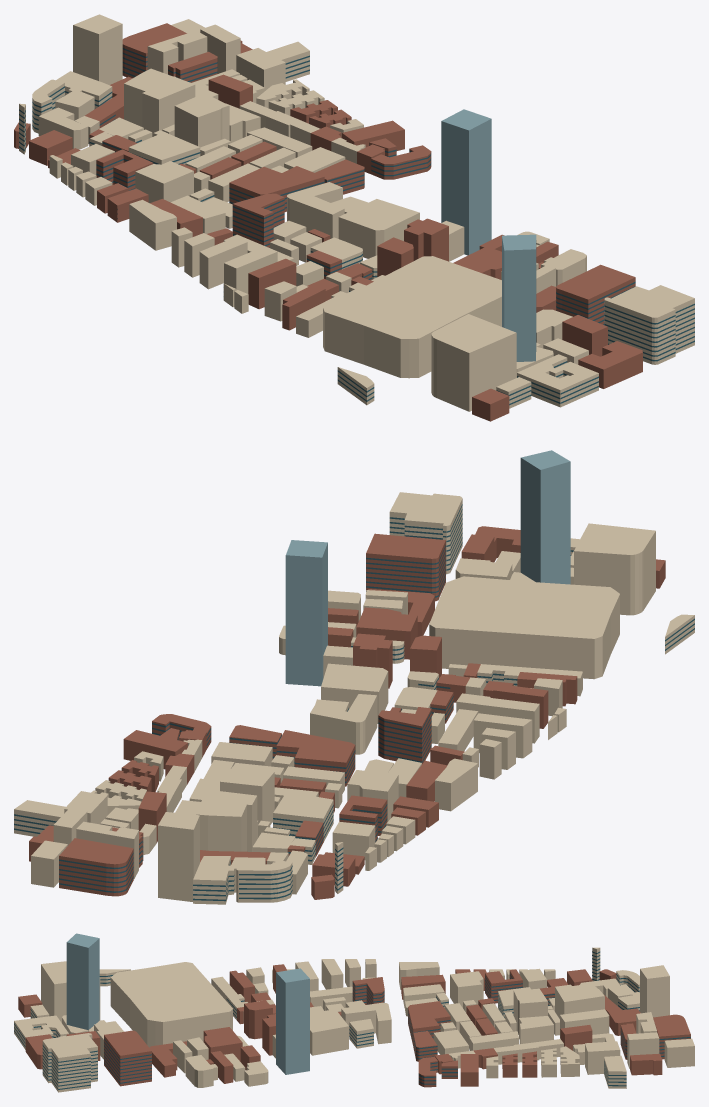
3 views of the same model, one above another, from view 1: azimuth 30°, elevation 25°; view 2: azimuth 150°, elevation 25°; view 3: azimuth 270°, elevation 25° (orthographic). The views are drawn at different scales.
Visible parts, largest first — view 1: osm-way-378107236, osm-way-380340014, osm-way-378107150, osm-way-320908499, osm-way-378107140, osm-way-446937295, osm-way-446937013, osm-relation-16213630, osm-way-1156620261, osm-way-446937271, osm-way-446934938, osm-way-495117576 (+51 smaller); view 2: osm-way-378107236, osm-way-378107140, osm-way-380340014, osm-way-378107150, osm-way-1156620261, osm-way-293504499, osm-way-320908499, osm-way-446937013, osm-way-446937295, osm-way-380340021, osm-way-446934938, osm-way-495117576 (+40 smaller); view 3: osm-way-378107236, osm-way-380340014, osm-way-378107140, osm-way-320908499, osm-way-1156620261, osm-relation-16213630, osm-way-378107150, osm-way-446937013, osm-way-446937295, osm-way-446934938, osm-way-495117576, osm-way-446936792 (+70 smaller).
Boxes of the visible parts, left/top/right/bottom form: osm-way-378107236: left=323, top=256, right=501, bottom=378; osm-way-380340014: left=441, top=109, right=491, bottom=255; osm-way-378107150: left=431, top=314, right=516, bottom=411; osm-way-320908499: left=604, top=285, right=694, bottom=364; osm-way-378107140: left=502, top=234, right=536, bottom=361; osm-way-446937295: left=124, top=68, right=195, bottom=136; osm-way-446937013: left=73, top=14, right=122, bottom=84; osm-relation-16213630: left=338, top=199, right=419, bottom=258; osm-way-1156620261: left=556, top=264, right=635, bottom=325; osm-way-446937271: left=174, top=93, right=229, bottom=147; osm-way-446934938: left=287, top=182, right=344, bottom=238; osm-way-495117576: left=229, top=166, right=324, bottom=211; osm-way-378107236: left=429, top=576, right=619, bottom=679; osm-way-378107140: left=520, top=450, right=570, bottom=584; osm-way-380340014: left=285, top=540, right=327, bottom=686; osm-way-378107150: left=574, top=523, right=655, bottom=615; osm-way-1156620261: left=366, top=533, right=445, bottom=601; osm-way-293504499: left=59, top=838, right=133, bottom=896; osm-way-320908499: left=389, top=492, right=462, bottom=574; osm-way-446937013: left=158, top=812, right=199, bottom=901; osm-way-446937295: left=196, top=789, right=257, bottom=851; osm-way-380340021: left=378, top=707, right=431, bottom=763; osm-way-446934938: left=310, top=694, right=377, bottom=754; osm-way-495117576: left=276, top=730, right=355, bottom=786; osm-way-378107236: left=110, top=962, right=232, bottom=1047; osm-way-380340014: left=276, top=968, right=309, bottom=1074; osm-way-378107140: left=66, top=933, right=99, bottom=1030; osm-way-320908499: left=42, top=1033, right=97, bottom=1092; osm-way-1156620261: left=104, top=1030, right=151, bottom=1086; osm-relation-16213630: left=310, top=1009, right=348, bottom=1055; osm-way-378107150: left=41, top=961, right=100, bottom=1022; osm-way-446937013: left=640, top=965, right=669, bottom=1017; osm-way-446937295: left=555, top=983, right=604, bottom=1018; osm-way-446934938: left=341, top=1002, right=391, bottom=1044; osm-way-495117576: left=408, top=1001, right=450, bottom=1045; osm-way-446936792: left=450, top=971, right=483, bottom=1007.
Bounding box in the file's own units: 279 × 112 × 728.
